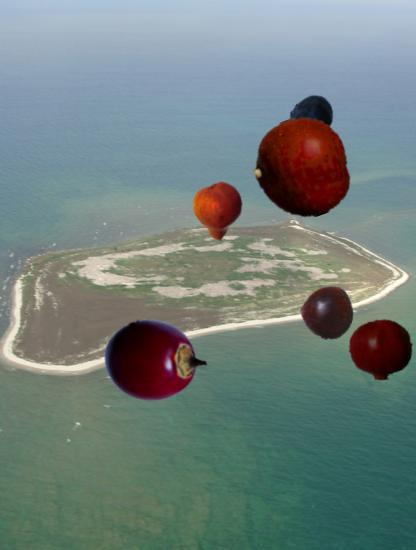Blueberry: (279, 93, 339, 153)
Chestnut: (300, 284, 355, 339)
Nectarine: (251, 118, 352, 219)
Pear: (189, 182, 249, 242)
Pomegranate: (349, 318, 413, 382)
Tamarillo: (104, 309, 204, 409)
